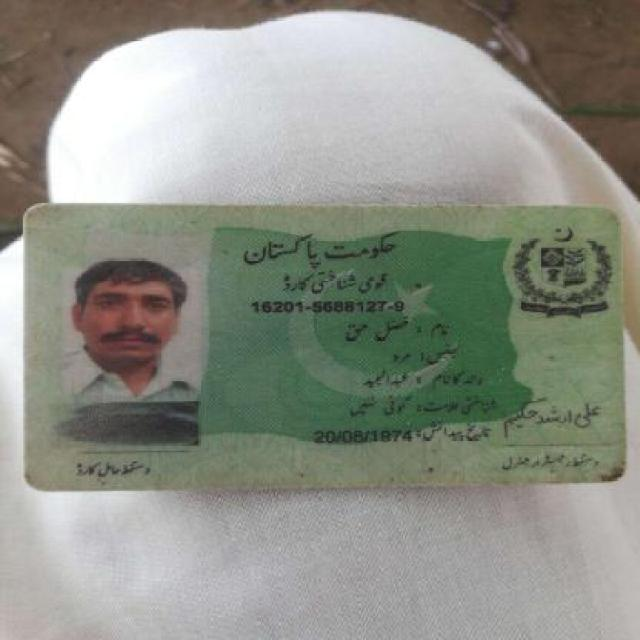Front: (16, 202, 630, 490)
